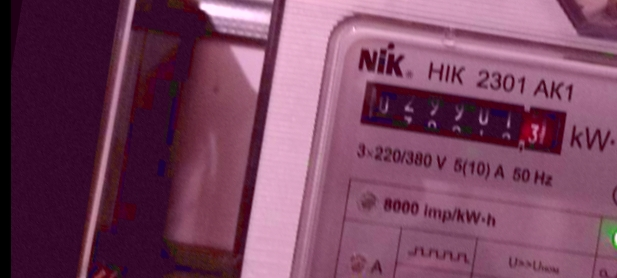0: (474, 100, 493, 127), (374, 90, 392, 114)
1: (501, 104, 516, 129)
2: (400, 89, 418, 113)
3: (524, 120, 542, 145)
9: (450, 98, 466, 122), (426, 93, 441, 116)
screen: (349, 70, 577, 165)
